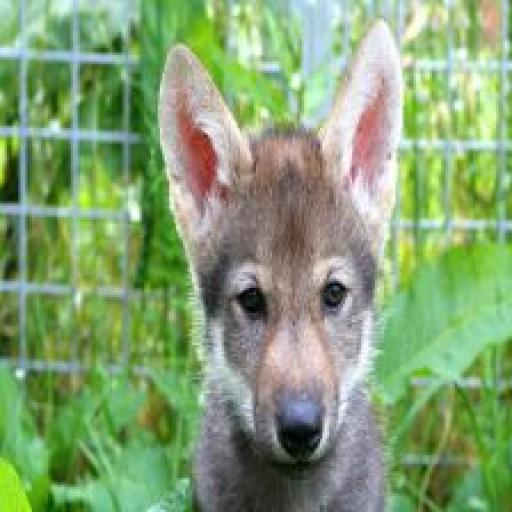wolf: (133, 7, 441, 512)
